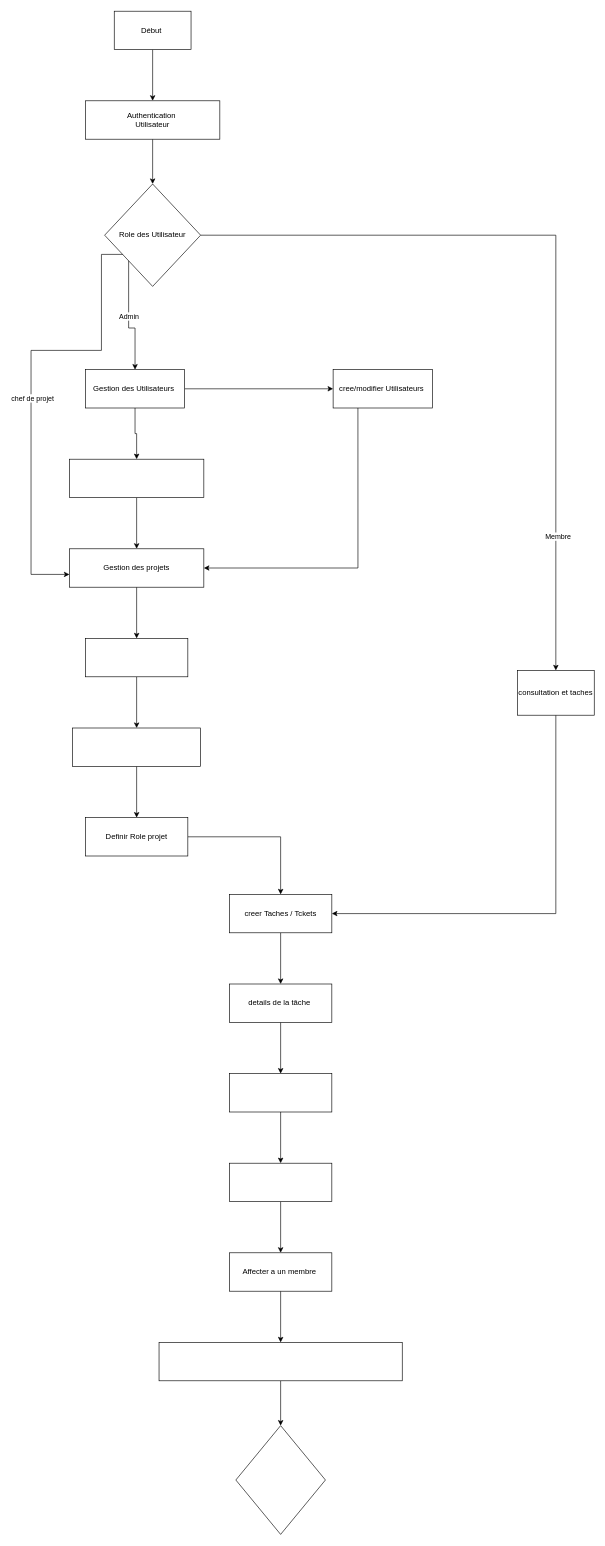
Some shapes in this 605 by 1546 pixel diagram are drawn without their labels. Each missing label, with the centre of its shape:
Affecter Menbre au projet: the point at 136,746
cree Projet: the point at 136,657
definir priorité et Estimation: the point at 280,1092
Definir Role et permissions: the point at 136,478
Gere Sous-Tache: the point at 280,1182
Tableau kanban: the point at 280,1361
